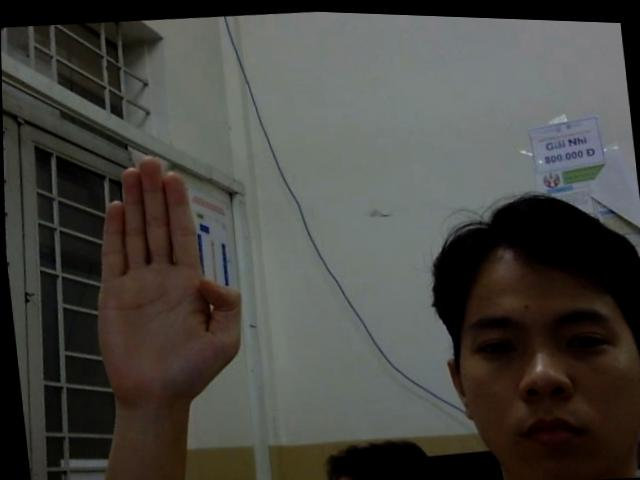B: (60, 147, 254, 406)
